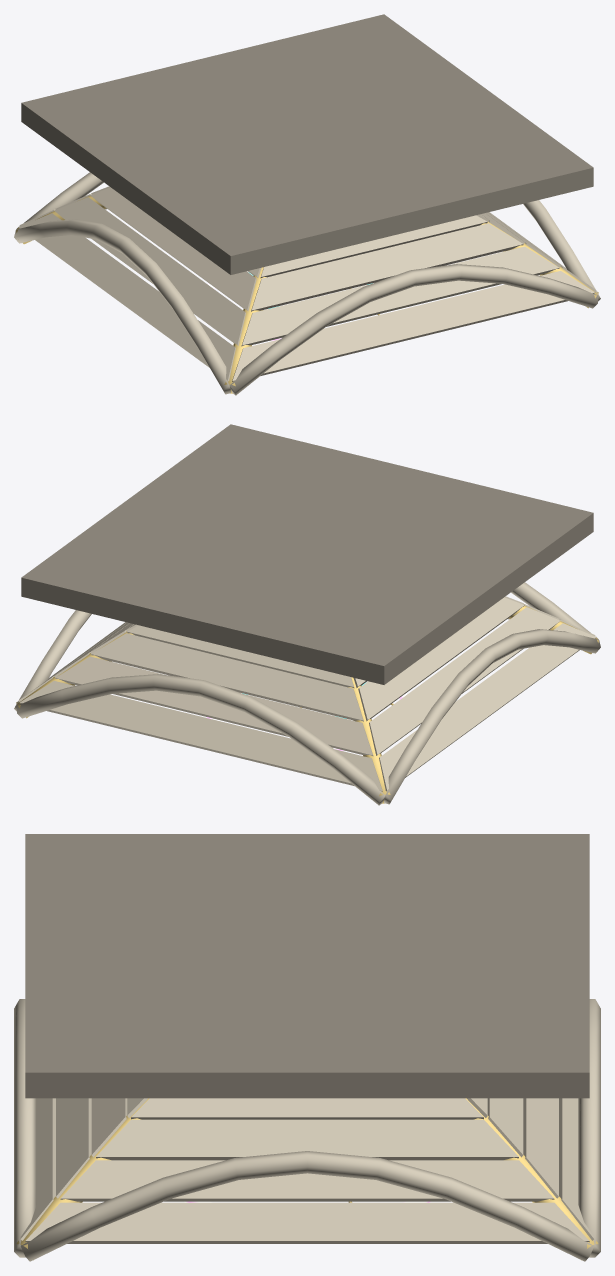
Rendered from ceil_bb_halo.glb.
3 views of the same model, one above another, from view 1: azimuth 30°, elevation 25°; view 2: azimuth 150°, elevation 25°; view 3: azimuth 270°, elevation 25° (orthographic). The views are drawn at different scales.
Parts seen in each view (by area): view 1: ceil_bb_halo; view 2: ceil_bb_halo; view 3: ceil_bb_halo.
Boxes of the visible parts, box(x1,y1,x2,y2) form: ceil_bb_halo: box(14, 14, 600, 395); ceil_bb_halo: box(14, 424, 600, 805); ceil_bb_halo: box(14, 834, 600, 1261).
Bounding box in the file's own units: 4.16 × 1.74 × 4.16.
